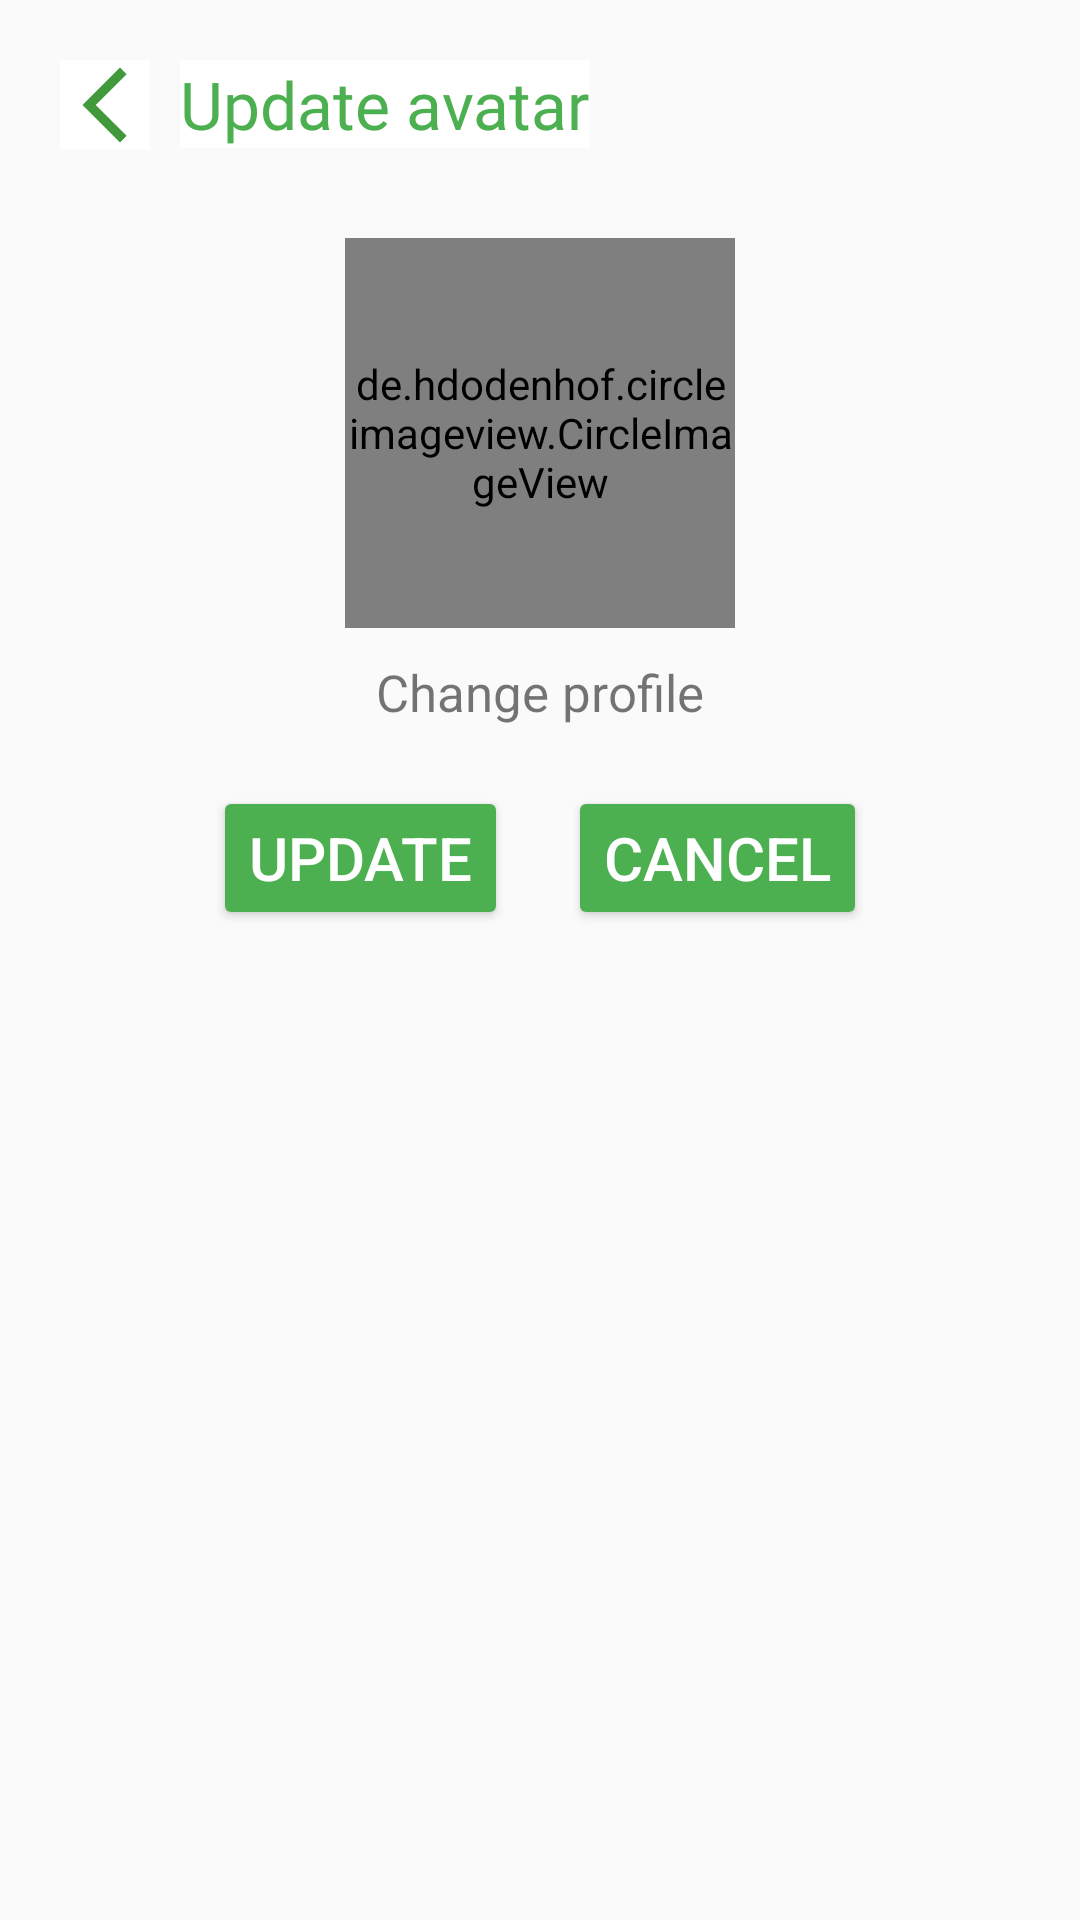

Named icons in this screenshot (1080*1920) and their centers, (x,y):
back: (105,105)
